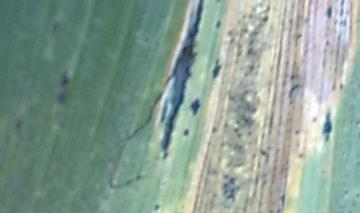tarspot: (163, 1, 204, 159), (320, 110, 332, 143), (212, 58, 222, 79), (191, 99, 200, 116), (289, 84, 299, 99), (57, 91, 67, 103), (338, 1, 345, 18), (279, 192, 287, 206), (61, 77, 72, 86), (53, 22, 62, 33), (214, 17, 222, 29), (261, 12, 269, 24), (16, 120, 25, 130), (326, 6, 332, 19), (183, 128, 190, 137), (338, 83, 344, 91), (155, 203, 159, 212)
